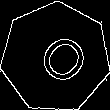O_SW: (23, 24, 88, 91)
